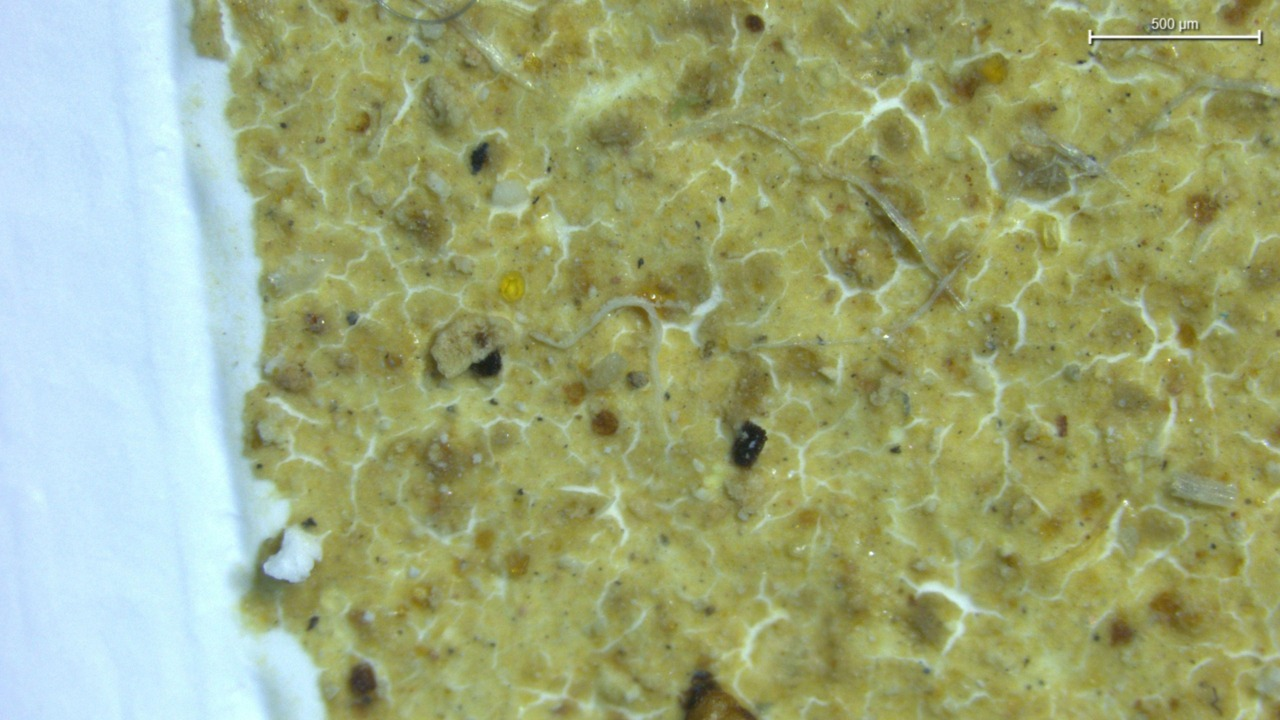microplastic_fragment: (431, 312, 519, 378), (262, 525, 322, 583)
